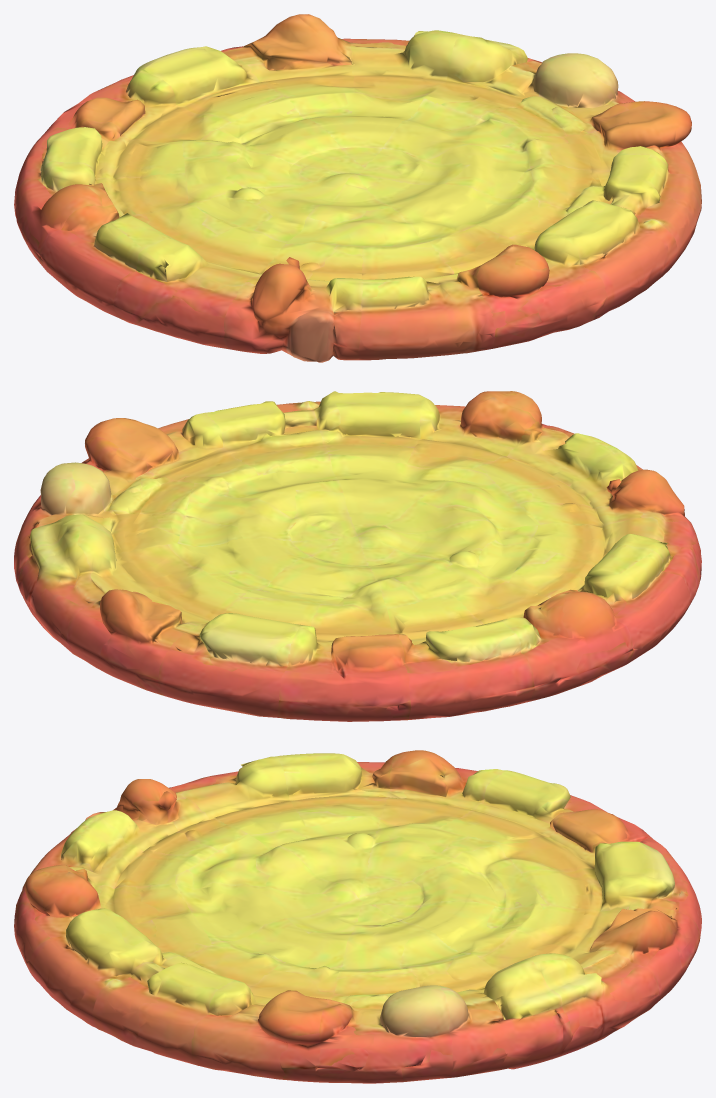
File: env_pad_race_01.glb
3 views of the same model, one above another, from view 1: azimuth 30°, elevation 25°; view 2: azimuth 150°, elevation 25°; view 3: azimuth 270°, elevation 25° (orthographic).
Visible parts, largest first — view 1: env_pad_race_01; view 2: env_pad_race_01; view 3: env_pad_race_01.
Part boxes in pixels (x1,y1,x2,y2): env_pad_race_01: [14, 14, 701, 362]; env_pad_race_01: [14, 391, 701, 721]; env_pad_race_01: [14, 750, 701, 1083].
Bounding box in the file's own units: 2.52 × 0.3485 × 2.52.
Materials: 1 (1 with a texture image).
